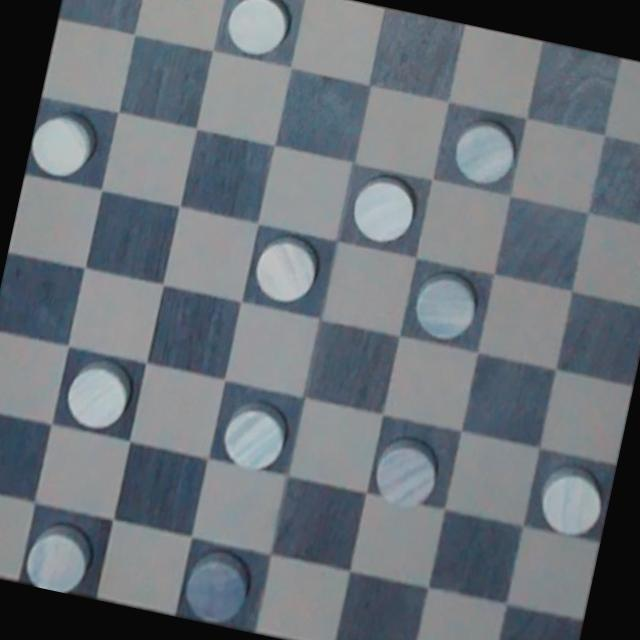BOARD: (0, 0, 640, 640)
white: (432, 107, 529, 200), (362, 424, 452, 521), (22, 98, 108, 198), (172, 532, 258, 630), (206, 389, 296, 481), (52, 346, 139, 437), (18, 508, 104, 598), (343, 166, 427, 254), (532, 452, 610, 544), (402, 264, 484, 348), (246, 228, 326, 312), (218, 0, 301, 66)
